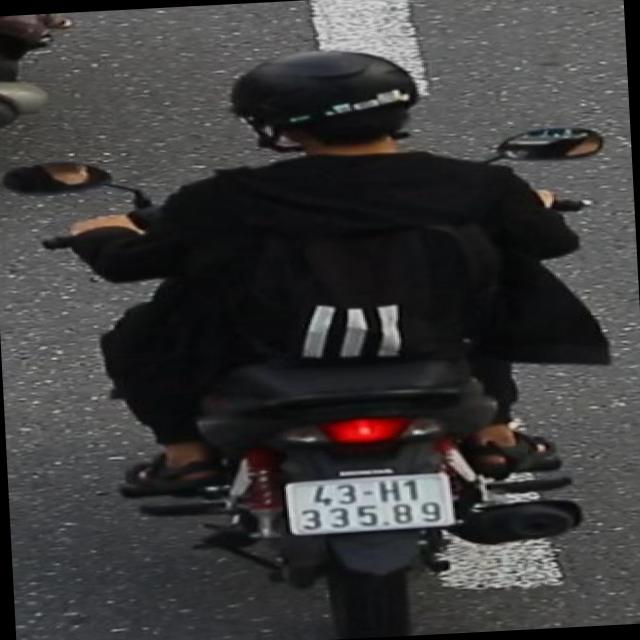LP: (278, 464, 459, 539)
helmet: (218, 40, 436, 170)
